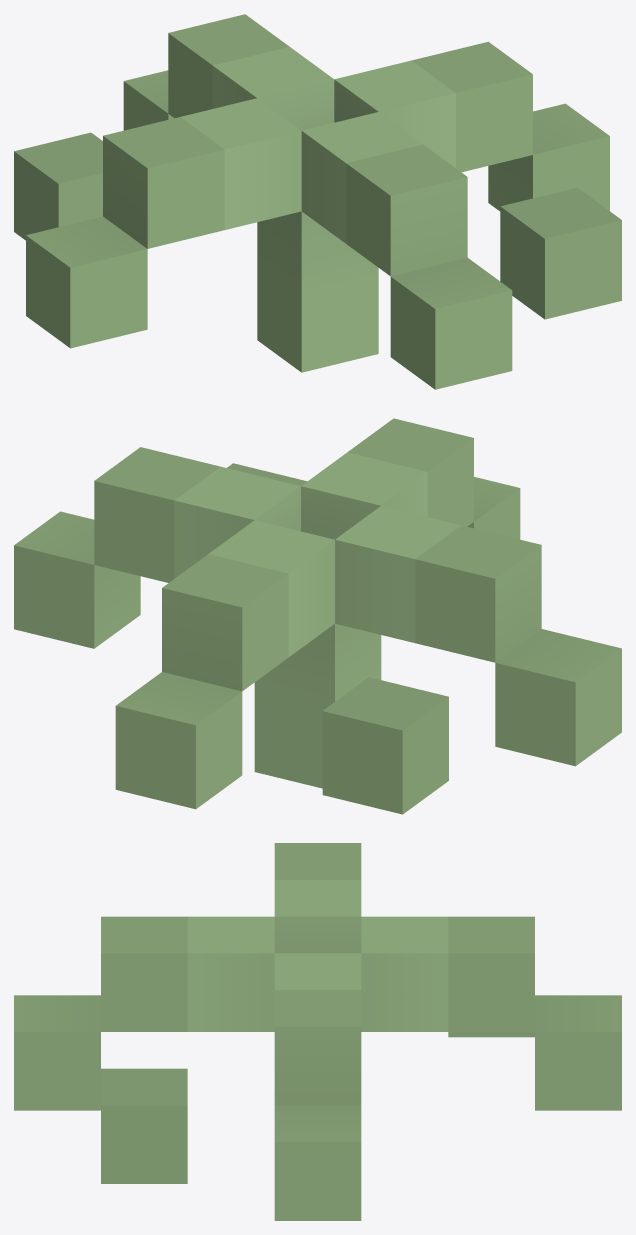
Rendered from decor_fern_b.glb.
The picture shows the model from 3 angles, top to bottom: view 1: azimuth 30°, elevation 25°; view 2: azimuth 150°, elevation 25°; view 3: azimuth 270°, elevation 25°; orthographic projection. The views are drawn at different scales.
Visible parts, largest first — view 1: decor_fern_b; view 2: decor_fern_b; view 3: decor_fern_b.
Boxes of the visible parts, x1,y1,x2,y2 form: decor_fern_b: (14,14,621,389); decor_fern_b: (14,418,621,814); decor_fern_b: (14,843,621,1220).
Bounding box in the file's own units: 0.4375 × 0.1875 × 0.4375.
